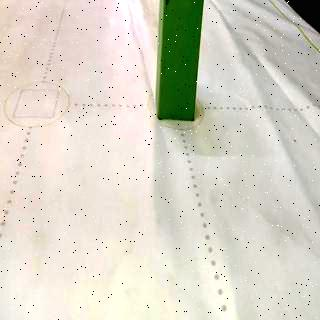greenbox: (156, 0, 205, 122)
